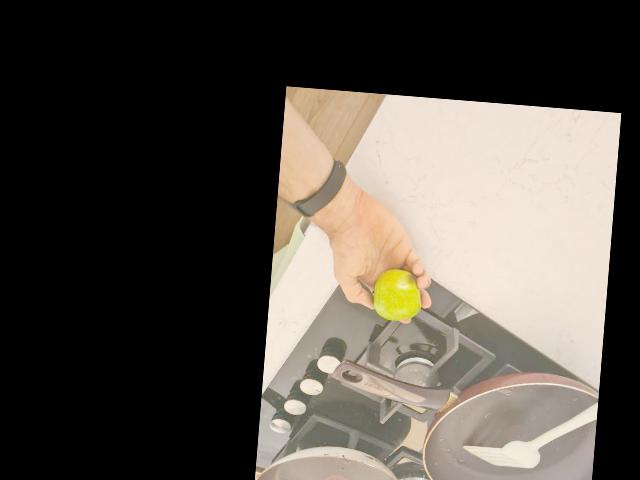apple: (367, 258, 431, 323)
